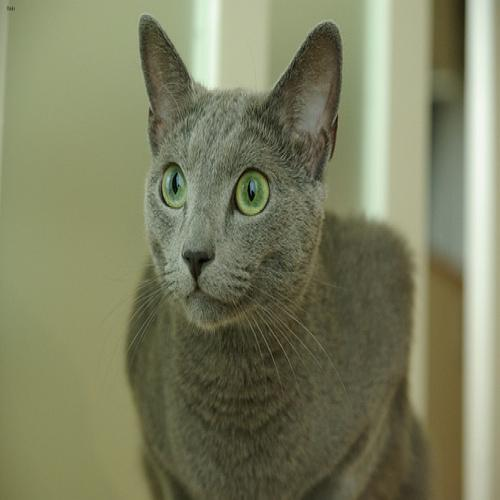rblue: (127, 4, 349, 363)
